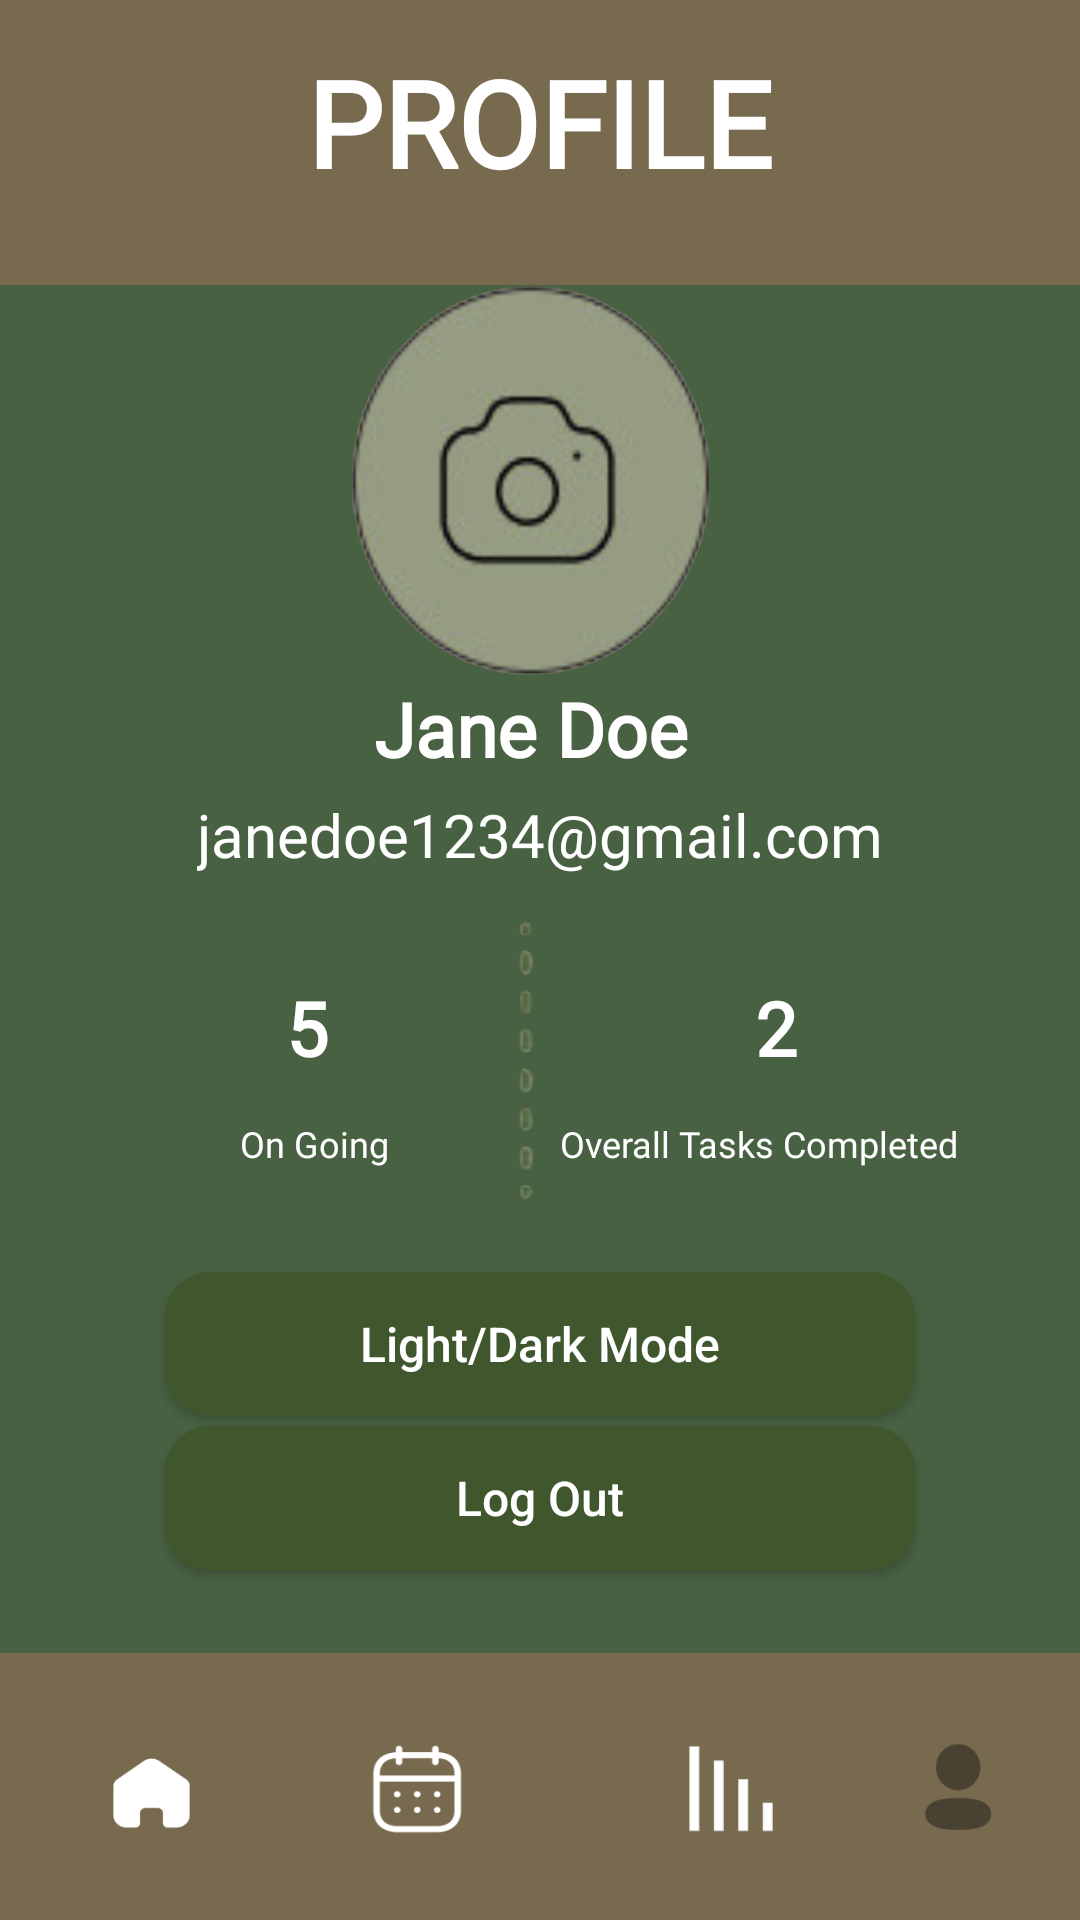

Where to tap for icons on this 1080x1920 app screen, as [x,y]:
graph buttton: [731,1789]
